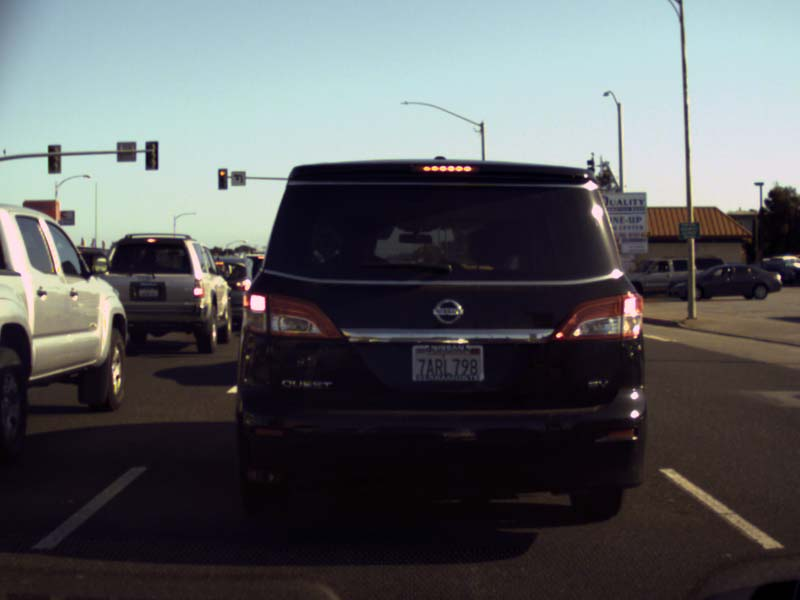Red: (217, 168, 226, 189)
